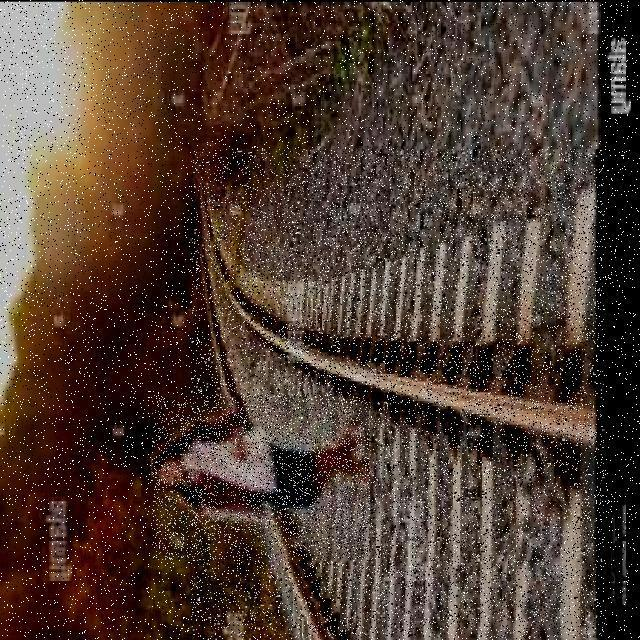danger: (152, 395, 370, 560)
rail: (191, 149, 604, 638)
